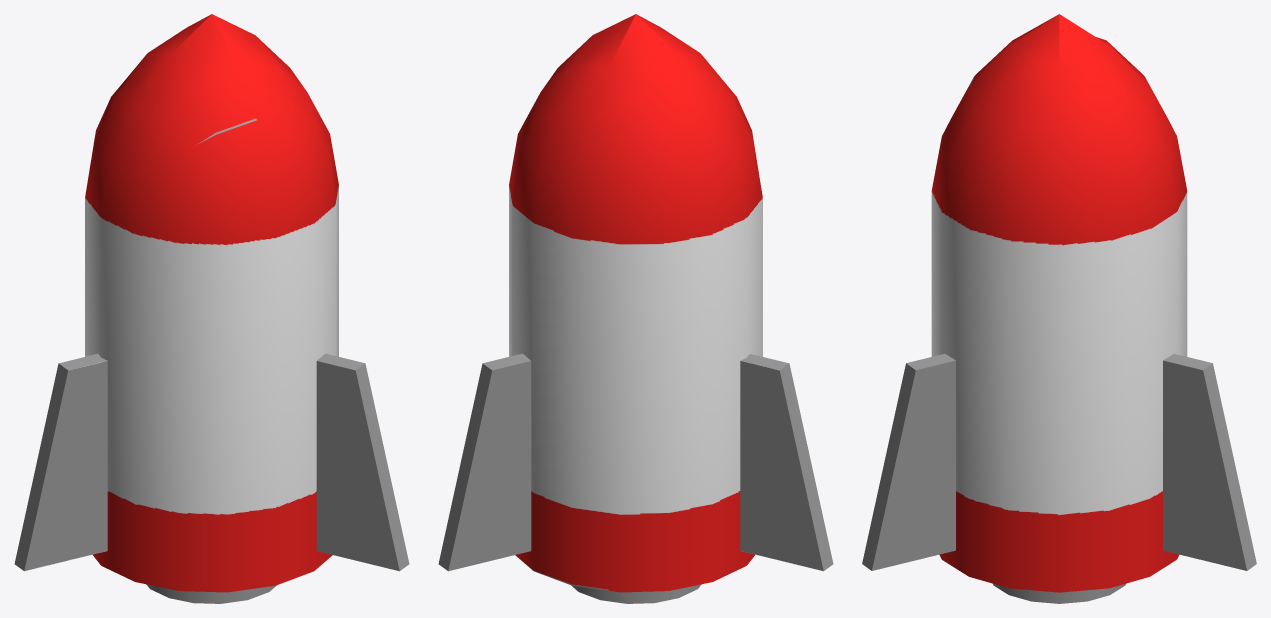
File: Misil.fbx
3 renders of one model, left to right at view 1: azimuth 30°, elevation 25°; view 2: azimuth 150°, elevation 25°; view 3: azimuth 270°, elevation 25°, orthographic.
Visible parts, largest first — view 1: Misil; view 2: Misil; view 3: Misil.
Part boxes in pixels (<box>): Misil: <box>14,14,409,603</box>; Misil: <box>438,14,833,603</box>; Misil: <box>862,14,1256,603</box>.
Size of the model in its own units: 235 by 414 by 264.
